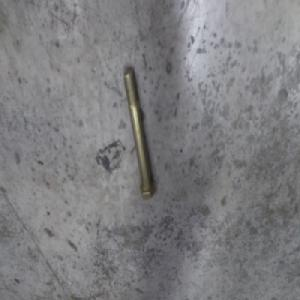Bolt: (123, 65, 155, 195)
